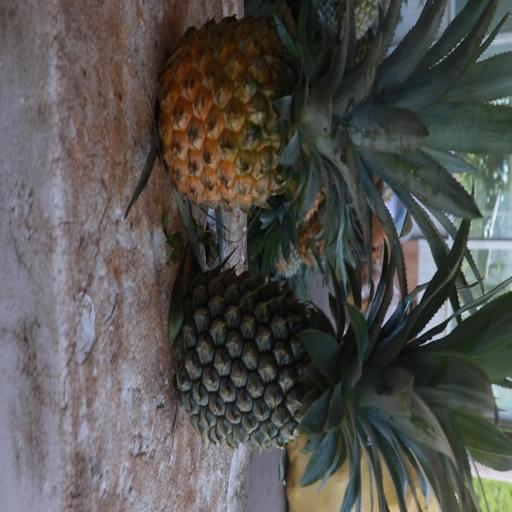Pineapple - v8 v1: (162, 20, 459, 206)
